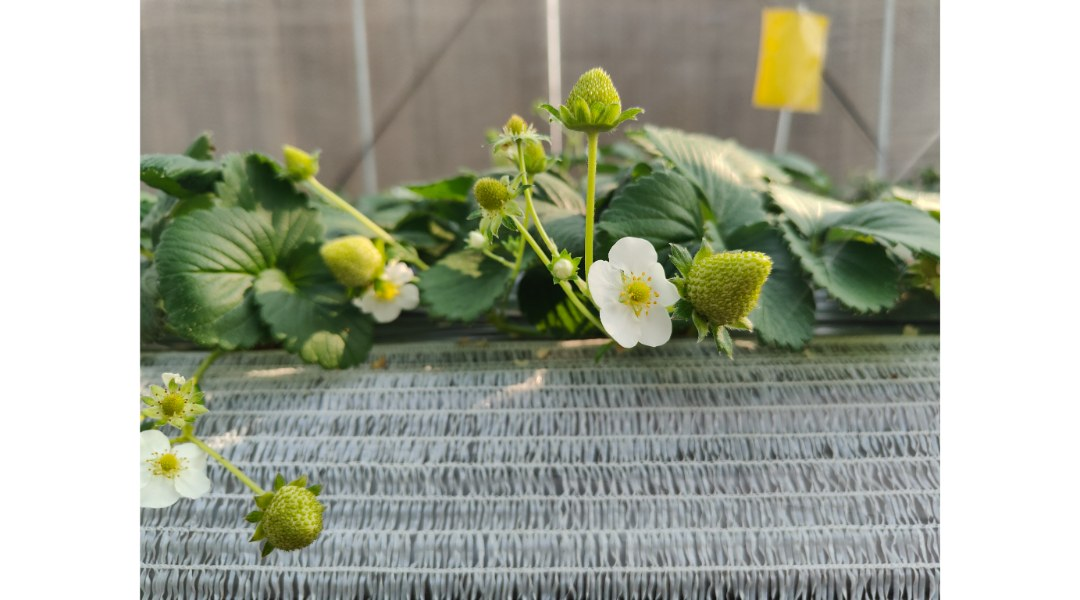berry: (678, 237, 769, 355), (530, 60, 647, 146), (235, 467, 336, 556), (311, 235, 393, 291), (145, 373, 204, 439), (464, 173, 516, 220), (269, 135, 319, 183), (479, 108, 536, 141)
flower: (577, 225, 685, 363), (112, 412, 215, 511), (349, 260, 432, 330)
strain: (310, 184, 422, 275), (582, 134, 596, 286)
